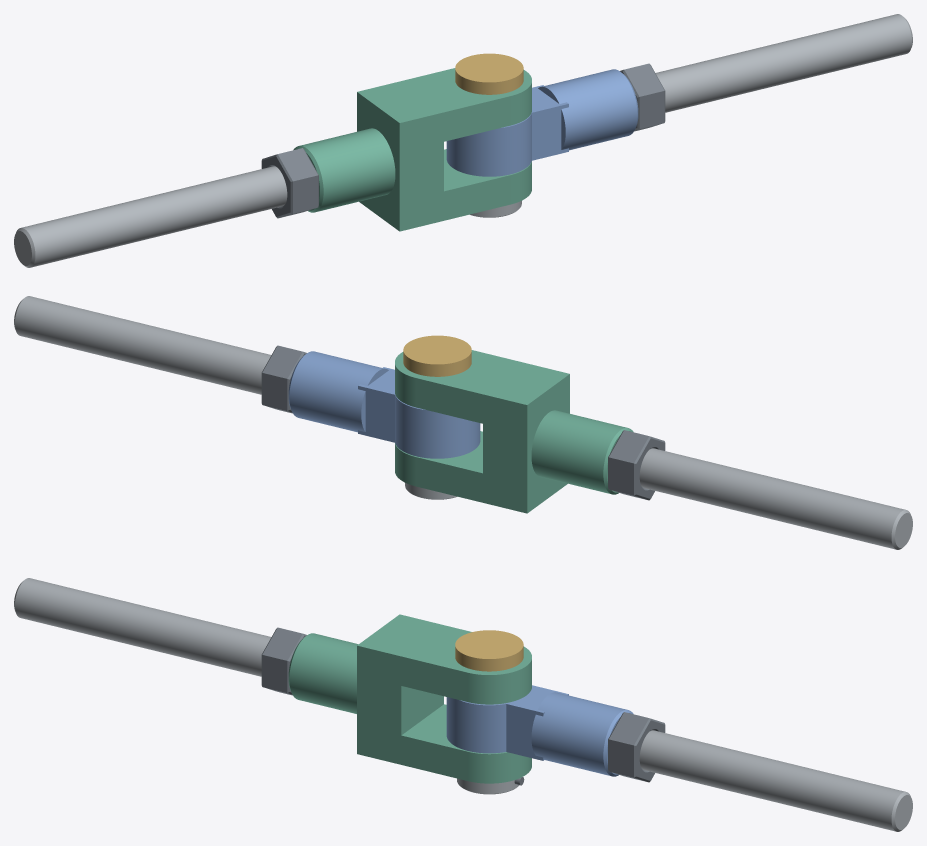
File: knuckle_joint.glb
The picture shows the model from 3 angles, top to bottom: view 1: azimuth 30°, elevation 25°; view 2: azimuth 150°, elevation 25°; view 3: azimuth 330°, elevation 25°; orthographic projection.
Visible parts, largest first — view 1: fork end, tie rod 2, eye end, tie rod 1, knuckle pin, lock nut 2, lock nut 1; view 2: fork end, tie rod 2, eye end, tie rod 1, knuckle pin, lock nut 2, lock nut 1; view 3: fork end, tie rod 1, tie rod 2, eye end, knuckle pin, lock nut 1, lock nut 2, collar.
Part boxes in pixels (<box>): fork end: <box>293,68,531,231</box>; tie rod 2: <box>14,166,287,267</box>; eye end: <box>446,69,638,176</box>; tie rod 1: <box>655,14,912,112</box>; knuckle pin: <box>455,53,523,94</box>; lock nut 2: <box>261,148,318,218</box>; lock nut 1: <box>620,63,665,131</box>; fork end: <box>395,350,633,513</box>; tie rod 2: <box>639,448,912,549</box>; eye end: <box>288,351,480,458</box>; tie rod 1: <box>14,296,271,394</box>; knuckle pin: <box>403,335,471,376</box>; lock nut 2: <box>608,430,665,500</box>; lock nut 1: <box>261,345,306,413</box>; fork end: <box>288,614,531,783</box>; tie rod 1: <box>639,730,912,831</box>; tie rod 2: <box>14,578,271,676</box>; eye end: <box>446,685,633,776</box>; knuckle pin: <box>455,630,523,671</box>; lock nut 1: <box>608,712,665,782</box>; lock nut 2: <box>261,627,306,695</box>; collar: <box>457,778,519,794</box>.
Size of the model in its own units: 595 by 91 by 50.
